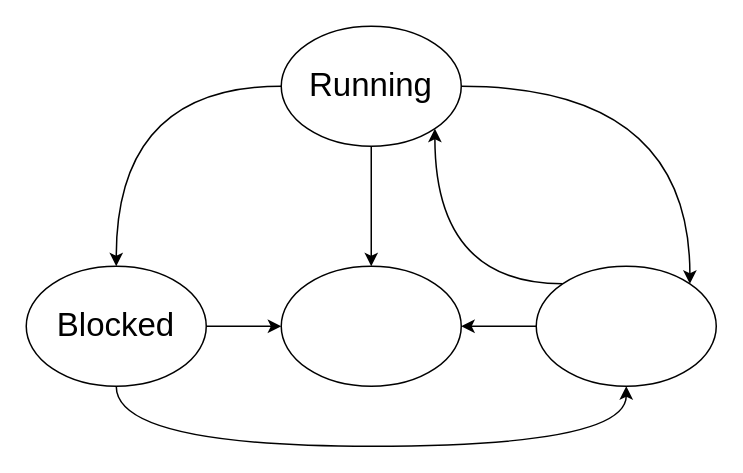
Some shapes in this 743 by 473 pixel diagram are drawn without their labels. Each missing label, with the centre of its shape:
Ready: the point at 625,325
Terminated: the point at 370,325
